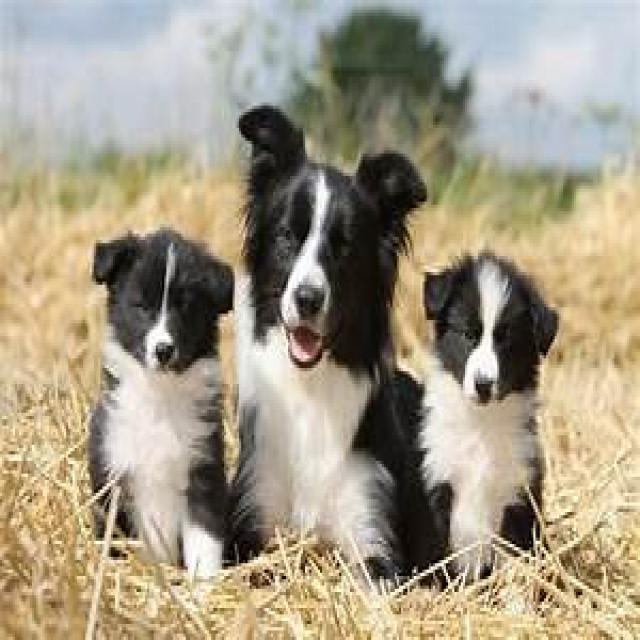dog: (230, 99, 427, 592), (390, 246, 559, 589), (83, 224, 235, 579)
